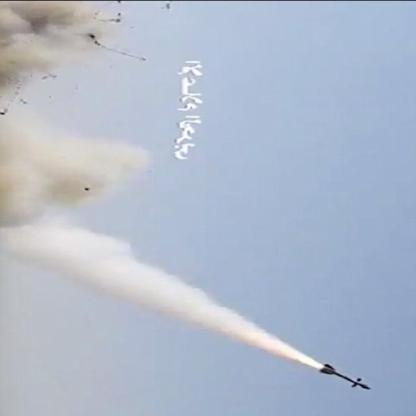MIL_TBM: (312, 358, 374, 393)
